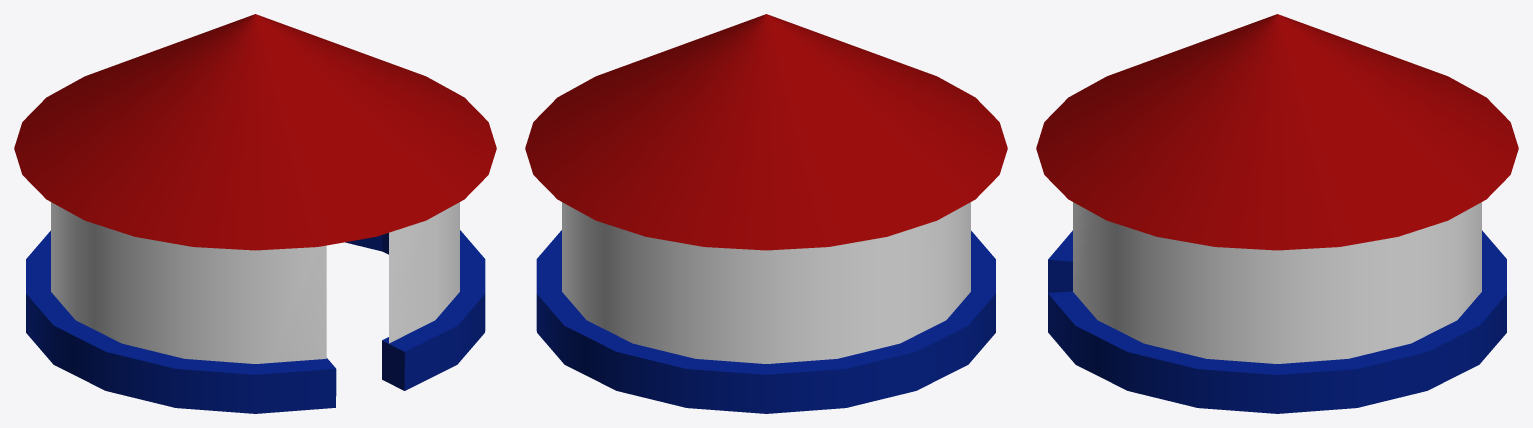
File: Ze Hut.FBX
3 renders of one model, left to right at view 1: azimuth 30°, elevation 25°; view 2: azimuth 150°, elevation 25°; view 3: azimuth 270°, elevation 25°, orthographic.
Visible parts, largest first — view 1: Cone001, Cylinder002, Cylinder001; view 2: Cone001, Cylinder002, Cylinder001; view 3: Cone001, Cylinder002, Cylinder001.
Part boxes in pixels (x1,y1,x2,y2): Cone001: [14, 14, 496, 250]; Cylinder002: [51, 202, 459, 363]; Cylinder001: [26, 230, 485, 413]; Cone001: [525, 14, 1007, 250]; Cylinder002: [562, 202, 970, 363]; Cylinder001: [536, 230, 995, 413]; Cone001: [1036, 14, 1518, 250]; Cylinder002: [1073, 202, 1481, 363]; Cylinder001: [1048, 230, 1506, 413].
Bounding box in the file's own units: 82.97 × 57.2 × 82.97.
